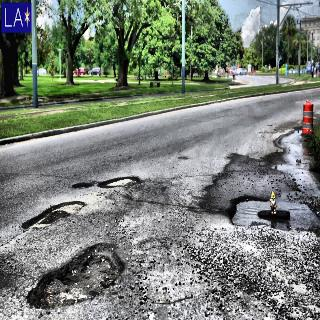pothole: (27, 238, 125, 314), (228, 186, 320, 240), (22, 196, 87, 232), (98, 171, 146, 197), (73, 177, 93, 192)
